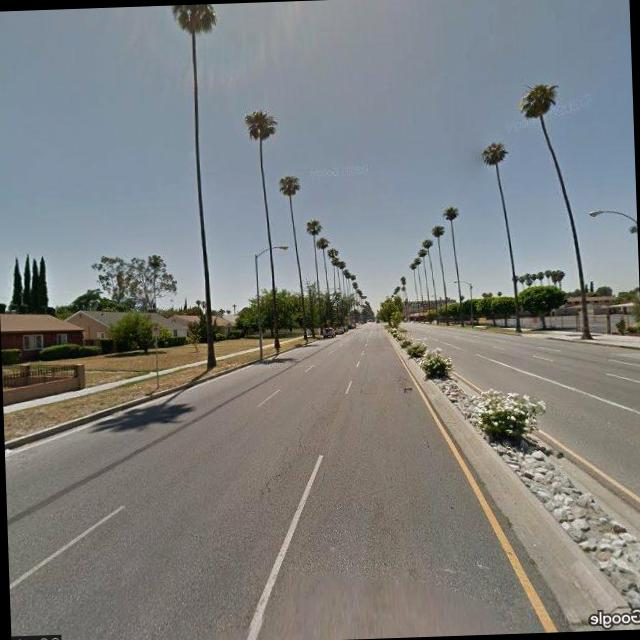crack: (256, 466, 287, 499)
